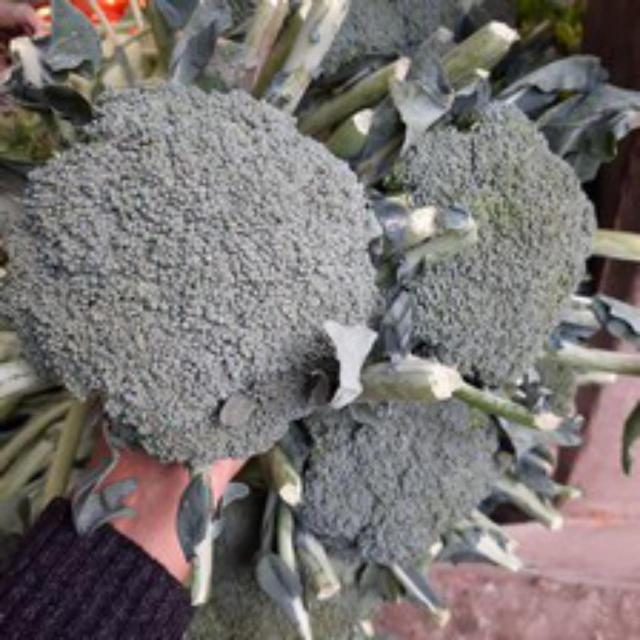broccoli: (0, 73, 380, 483)
